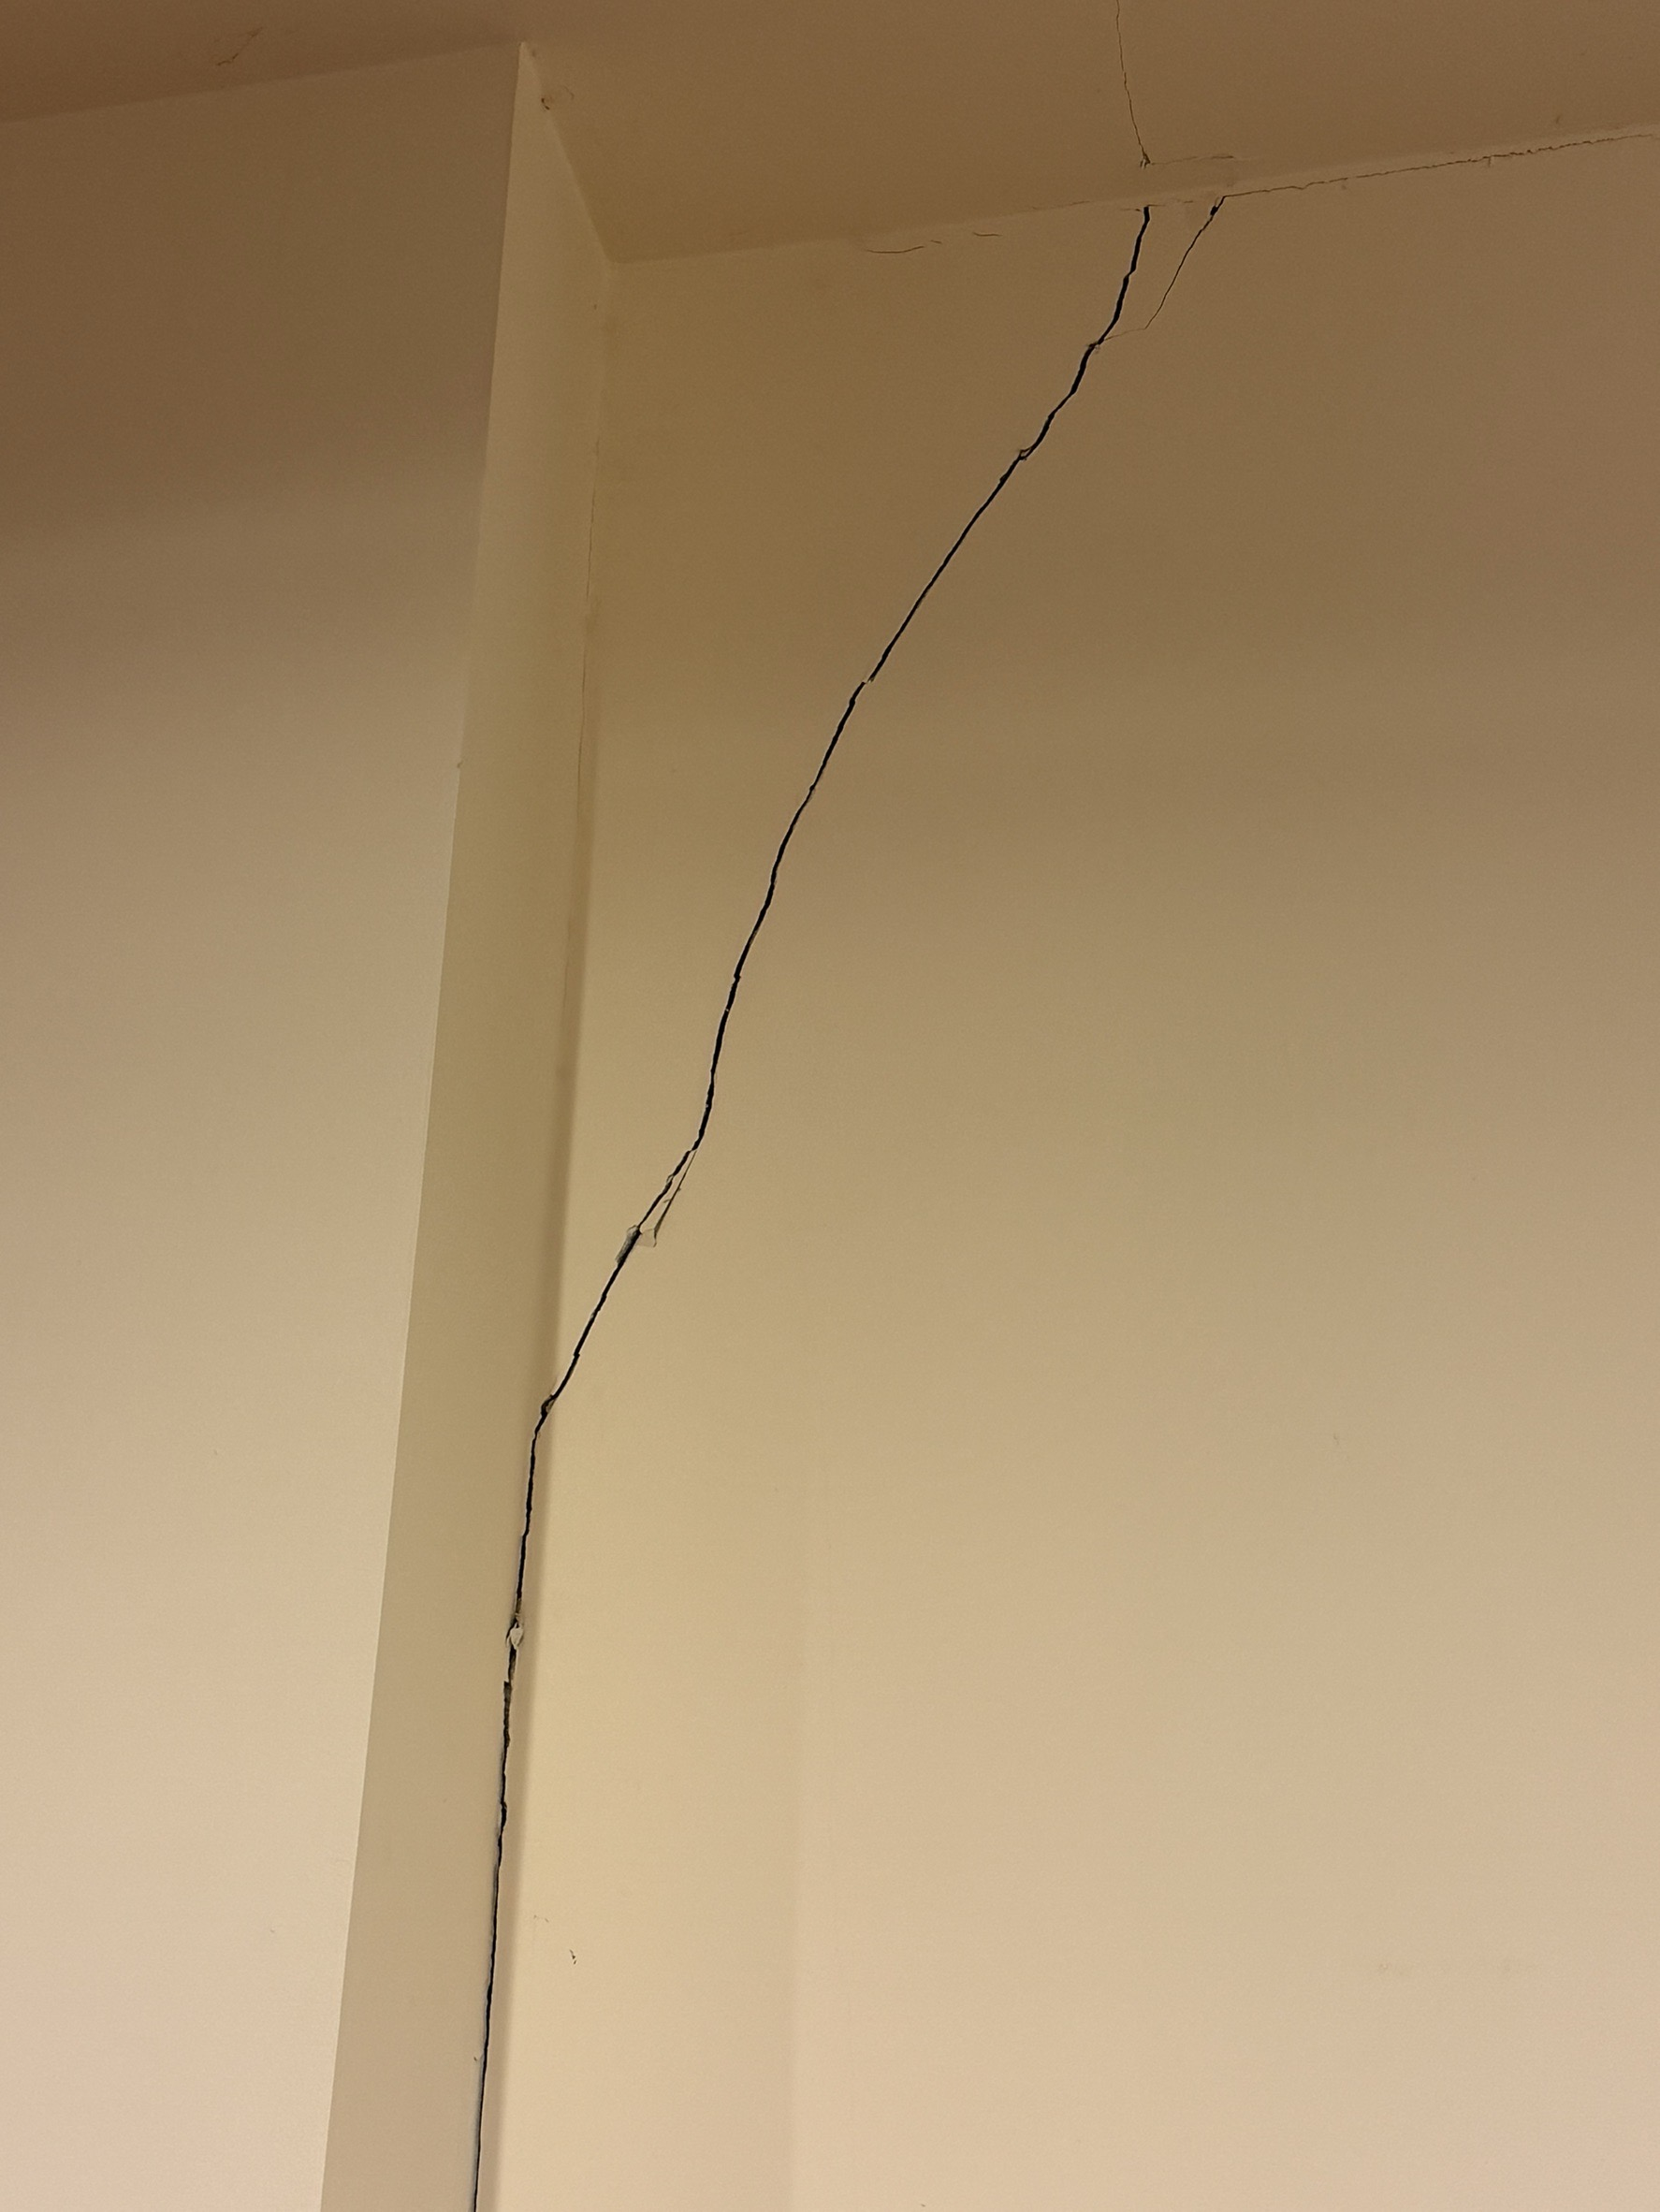Low: (291, 197, 1292, 2212)
